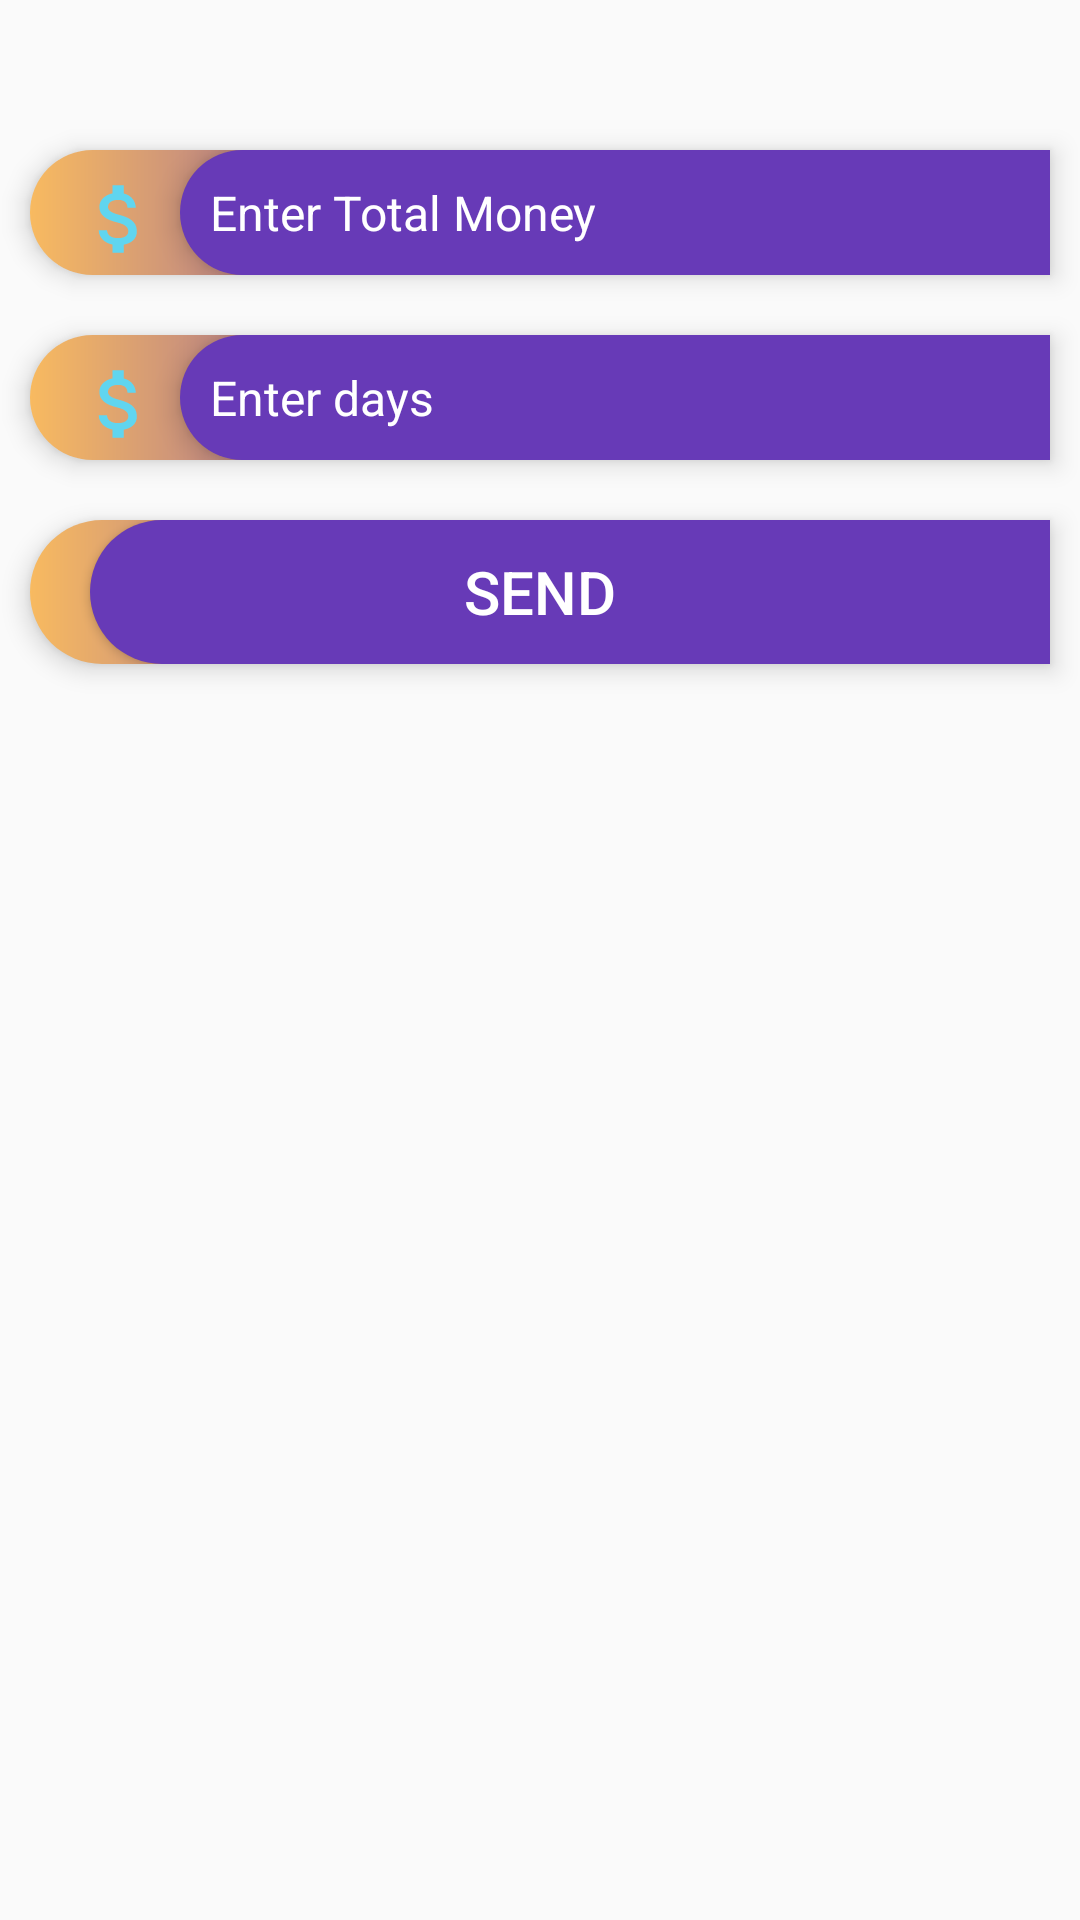

Point at icon controls on the screen. Image size 1080×1920, points as (x,y).
attach money: (106,219), (106,404)
